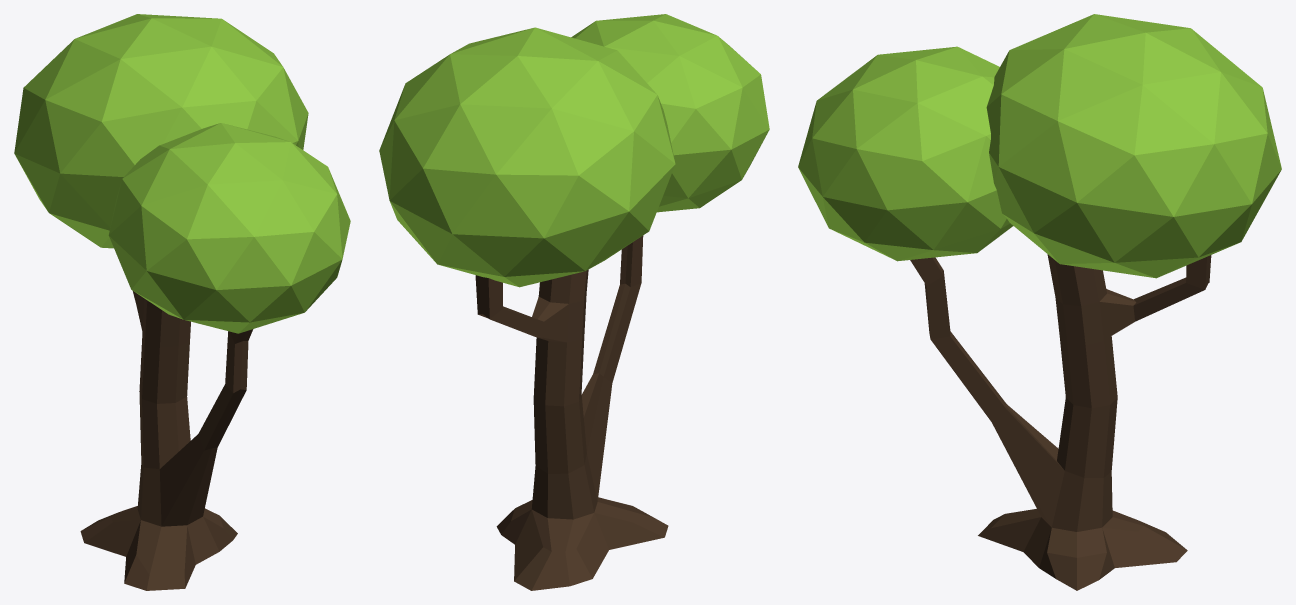
File: Tree4.fbx
3 views of the same model, side by side, from view 1: azimuth 30°, elevation 25°; view 2: azimuth 150°, elevation 25°; view 3: azimuth 270°, elevation 25° (orthographic). The views are drawn at different scales.
Visible parts, largest first — view 1: Cylinder.003; view 2: Cylinder.003; view 3: Cylinder.003.
Boxes of the visible parts, x1,y1,x2,y2 form: Cylinder.003: (14, 14, 350, 590); Cylinder.003: (379, 14, 769, 590); Cylinder.003: (798, 14, 1281, 590).
Bounding box in the file's own units: 200 × 386 × 316.
